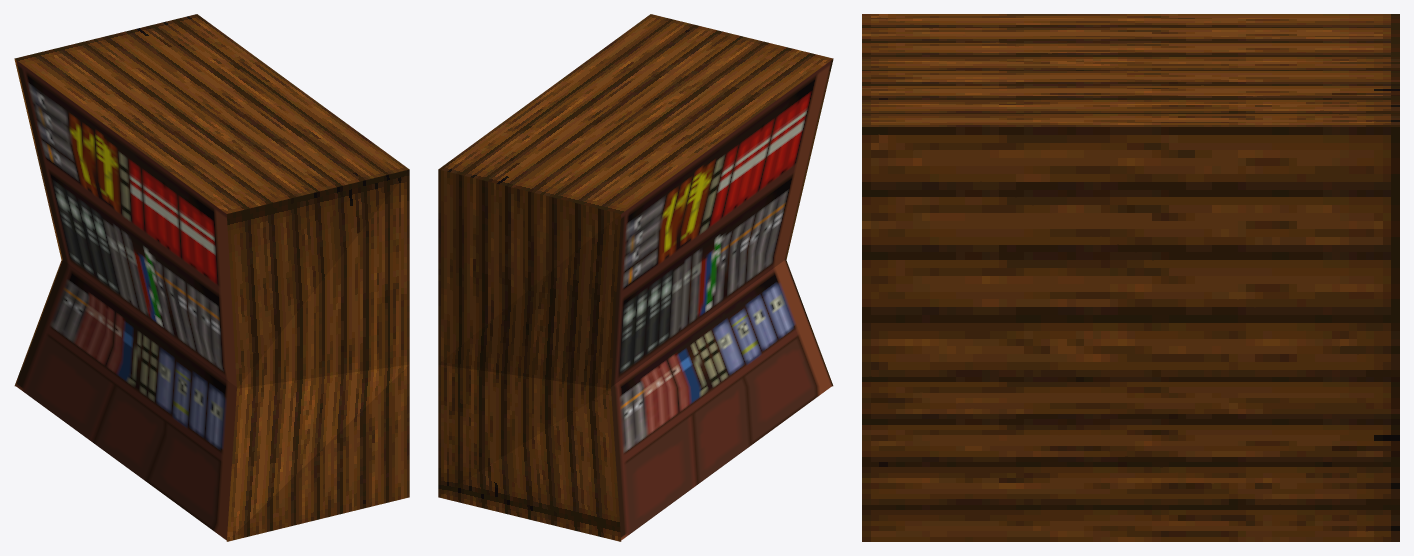
The model's file is Kasten_Dünn_715.glb.
3 views of the same model, side by side, from view 1: azimuth 30°, elevation 25°; view 2: azimuth 150°, elevation 25°; view 3: azimuth 270°, elevation 25° (orthographic). The views are drawn at different scales.
Parts seen in each view (by area): view 1: pCubeShape75, pCubeShape74; view 2: pCubeShape75, pCubeShape74; view 3: pCubeShape75.
Part boxes in pixels (<box>): pCubeShape75: <box>14,14,409,541</box>; pCubeShape74: <box>16,60,236,540</box>; pCubeShape75: <box>438,14,833,541</box>; pCubeShape74: <box>611,60,831,540</box>; pCubeShape75: <box>862,14,1399,541</box>.
Bounding box in the file's own units: 0.0934 × 0.1601 × 0.188.
Materials: 2 (2 with a texture image).
